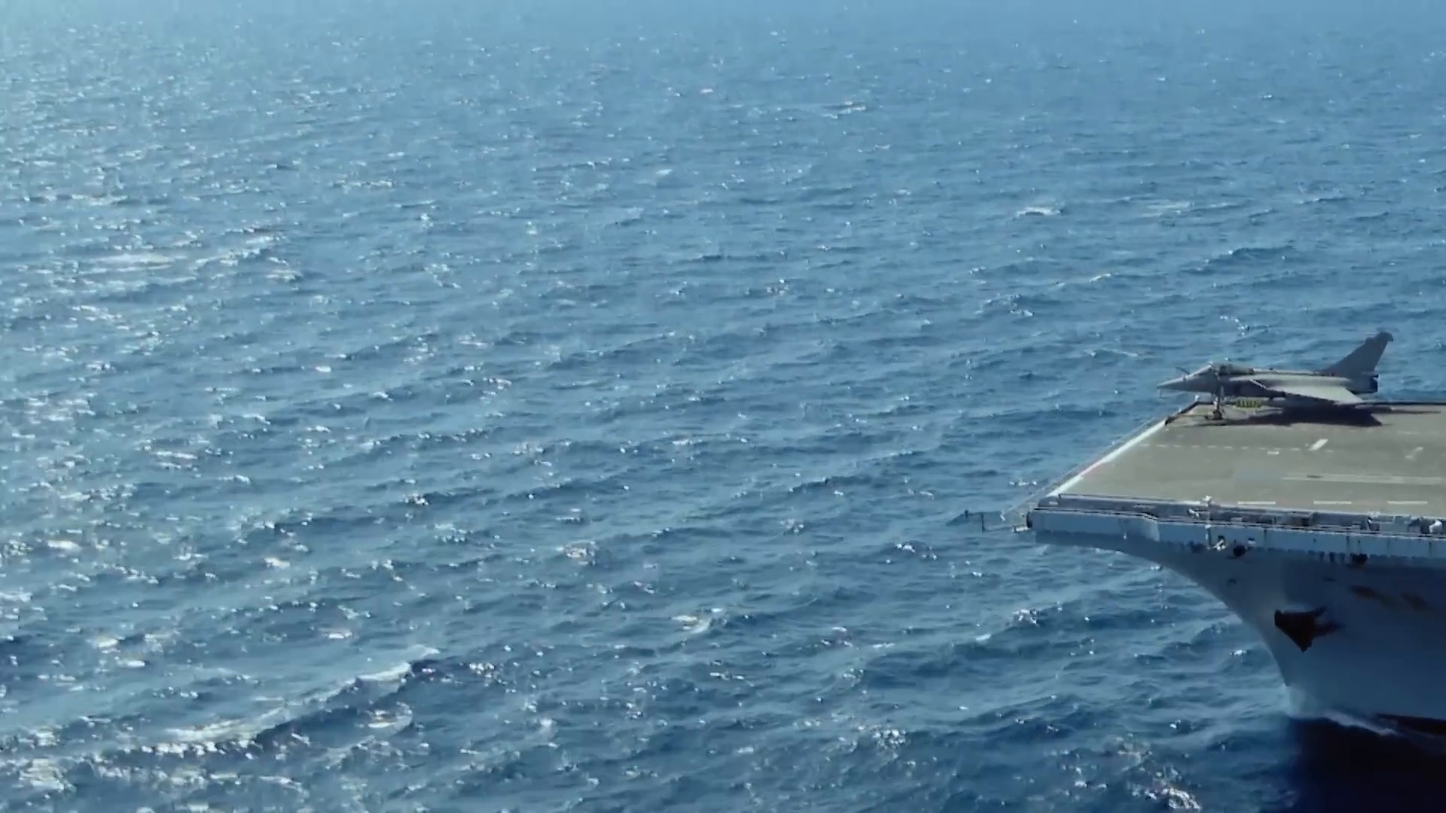Rafale: (1156, 331, 1397, 424)
